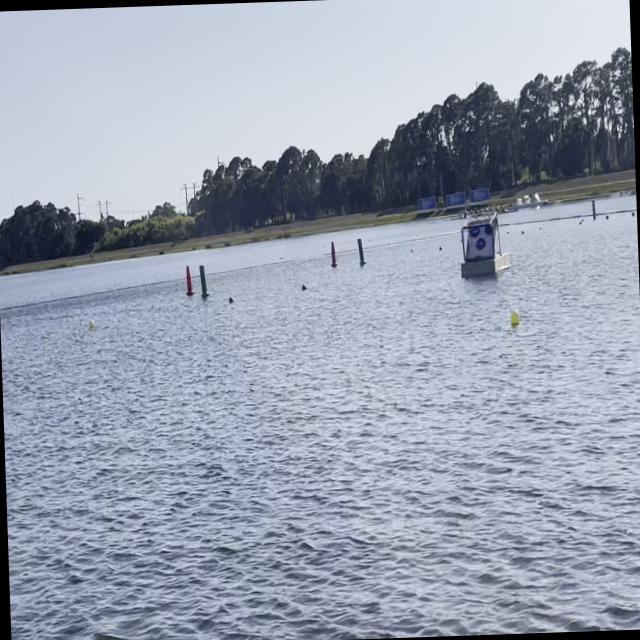buoy: (510, 309, 520, 325), (88, 318, 94, 328), (228, 296, 234, 304), (301, 282, 306, 290)
